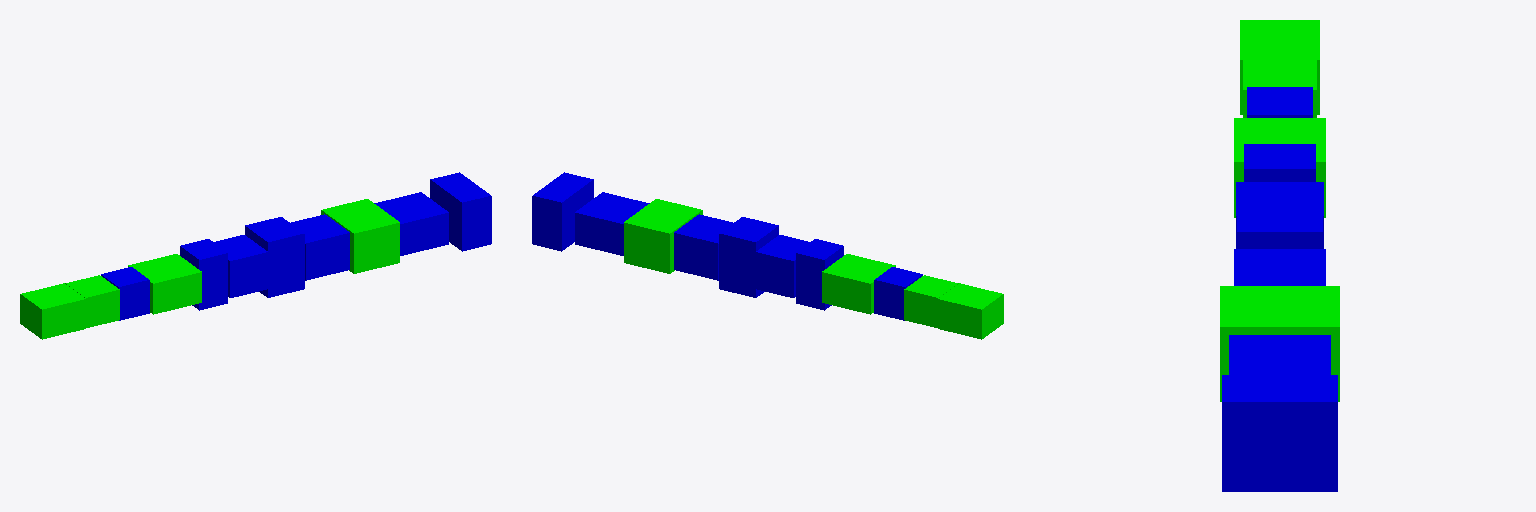
URDF robot description (robot):
<robot name = "robot">
    <link name="0">
        <inertial>
            <origin xyz="0 0 2" rpy="0 0 0"/>
            <mass value="0.25600514994307827" />
            <inertia ixx="100" ixy="0" ixz="0" iyy="100" iyz="0" izz="100" />
        </inertial>
        <visual>
            <origin xyz="0 0 2" rpy="0 0 0"/>
            <geometry>
                <box size="0.7760438546277959 0.6555405401074978 0.503225781691728" />
            </geometry>
            <material name="Sensor">
                <color rgba="0 1.0 0 1.0"/>
            </material>
        </visual>
        <collision>
            <origin xyz="0 0 2" rpy="0 0 0"/>
            <geometry>
                <box size="0.7760438546277959 0.6555405401074978 0.503225781691728" />
            </geometry>
        </collision>
    </link>
    <joint name="0_1" type="revolute">
       <parent link="0"/>
       <child  link="1"/>
       <origin rpy="0 0 0" xyz="0.38802192731389795 0 2" />
       <axis xyz="0 1 0"/>
       <limit effort="0.0" lower="-3.14159" upper="3.14159" velocity="0.0"/>
    </joint>
    <link name="1">
        <inertial>
            <origin xyz="0.30208870519881165 0 0" rpy="0 0 0"/>
            <mass value="0.18881340145510908" />
            <inertia ixx="100" ixy="0" ixz="0" iyy="100" iyz="0" izz="100" />
        </inertial>
        <visual>
            <origin xyz="0.30208870519881165 0 0" rpy="0 0 0"/>
            <geometry>
                <box size="0.6041774103976233 0.6076961456787582 0.5142589406377683" />
            </geometry>
            <material name="Sensor">
                <color rgba="0 1.0 0 1.0"/>
            </material>
        </visual>
        <collision>
            <origin xyz="0.30208870519881165 0 0" rpy="0 0 0"/>
            <geometry>
                <box size="0.6041774103976233 0.6076961456787582 0.5142589406377683" />
            </geometry>
        </collision>
    </link>
    <joint name="1_2" type="revolute">
       <parent link="1"/>
       <child  link="2"/>
       <origin rpy="0 0 0" xyz="0.6041774103976233 0 0" />
       <axis xyz="0 1 0"/>
       <limit effort="0.0" lower="-3.14159" upper="3.14159" velocity="0.0"/>
    </joint>
    <link name="2">
        <inertial>
            <origin xyz="0.27071075504738484 0 0" rpy="0 0 0"/>
            <mass value="0.1675827699821035" />
            <inertia ixx="100" ixy="0" ixz="0" iyy="100" iyz="0" izz="100" />
        </inertial>
        <visual>
            <origin xyz="0.27071075504738484 0 0" rpy="0 0 0"/>
            <geometry>
                <box size="0.5414215100947697 0.5450463087581592 0.5678850765193373" />
            </geometry>
            <material name="No Sensor">
                <color rgba="0 0 1.0 1.0"/>
            </material>
        </visual>
        <collision>
            <origin xyz="0.27071075504738484 0 0" rpy="0 0 0"/>
            <geometry>
                <box size="0.5414215100947697 0.5450463087581592 0.5678850765193373" />
            </geometry>
        </collision>
    </link>
    <joint name="2_3" type="revolute">
       <parent link="2"/>
       <child  link="3"/>
       <origin rpy="0 0 0" xyz="0.5414215100947697 0 0" />
       <axis xyz="0 1 0"/>
       <limit effort="0.0" lower="-3.14159" upper="3.14159" velocity="0.0"/>
    </joint>
    <link name="3">
        <inertial>
            <origin xyz="0.43034794291042033 0 0" rpy="0 0 0"/>
            <mass value="0.3410259487072515" />
            <inertia ixx="100" ixy="0" ixz="0" iyy="100" iyz="0" izz="100" />
        </inertial>
        <visual>
            <origin xyz="0.43034794291042033 0 0" rpy="0 0 0"/>
            <geometry>
                <box size="0.8606958858208407 0.7657718455136774 0.517414152815207" />
            </geometry>
            <material name="Sensor">
                <color rgba="0 1.0 0 1.0"/>
            </material>
        </visual>
        <collision>
            <origin xyz="0.43034794291042033 0 0" rpy="0 0 0"/>
            <geometry>
                <box size="0.8606958858208407 0.7657718455136774 0.517414152815207" />
            </geometry>
        </collision>
    </link>
    <joint name="3_4" type="revolute">
       <parent link="3"/>
       <child  link="4"/>
       <origin rpy="0 0 0" xyz="0.8606958858208407 0 0" />
       <axis xyz="0 1 0"/>
       <limit effort="0.0" lower="-3.14159" upper="3.14159" velocity="0.0"/>
    </joint>
    <link name="4">
        <inertial>
            <origin xyz="0.2532490481090515 0 0" rpy="0 0 0"/>
            <mass value="0.25527450353411507" />
            <inertia ixx="100" ixy="0" ixz="0" iyy="100" iyz="0" izz="100" />
        </inertial>
        <visual>
            <origin xyz="0.2532490481090515 0 0" rpy="0 0 0"/>
            <geometry>
                <box size="0.506498096218103 0.5936364827575529 0.8490026379730228" />
            </geometry>
            <material name="No Sensor">
                <color rgba="0 0 1.0 1.0"/>
            </material>
        </visual>
        <collision>
            <origin xyz="0.2532490481090515 0 0" rpy="0 0 0"/>
            <geometry>
                <box size="0.506498096218103 0.5936364827575529 0.8490026379730228" />
            </geometry>
        </collision>
    </link>
    <joint name="4_5" type="revolute">
       <parent link="4"/>
       <child  link="5"/>
       <origin rpy="0 0 0" xyz="0.506498096218103 0 0" />
       <axis xyz="0 1 0"/>
       <limit effort="0.0" lower="-3.14159" upper="3.14159" velocity="0.0"/>
    </joint>
    <link name="5">
        <inertial>
            <origin xyz="0.33299847793899773 0 0" rpy="0 0 0"/>
            <mass value="0.3023268668728876" />
            <inertia ixx="100" ixy="0" ixz="0" iyy="100" iyz="0" izz="100" />
        </inertial>
        <visual>
            <origin xyz="0.33299847793899773 0 0" rpy="0 0 0"/>
            <geometry>
                <box size="0.6659969558779955 0.726231643277783 0.6250709723716871" />
            </geometry>
            <material name="No Sensor">
                <color rgba="0 0 1.0 1.0"/>
            </material>
        </visual>
        <collision>
            <origin xyz="0.33299847793899773 0 0" rpy="0 0 0"/>
            <geometry>
                <box size="0.6659969558779955 0.726231643277783 0.6250709723716871" />
            </geometry>
        </collision>
    </link>
    <joint name="5_6" type="revolute">
       <parent link="5"/>
       <child  link="6"/>
       <origin rpy="0 0 0" xyz="0.6659969558779955 0 0" />
       <axis xyz="0 1 0"/>
       <limit effort="0.0" lower="-3.14159" upper="3.14159" velocity="0.0"/>
    </joint>
    <link name="6">
        <inertial>
            <origin xyz="0.32187433439545077 0 0" rpy="0 0 0"/>
            <mass value="0.42448372508960425" />
            <inertia ixx="100" ixy="0" ixz="0" iyy="100" iyz="0" izz="100" />
        </inertial>
        <visual>
            <origin xyz="0.32187433439545077 0 0" rpy="0 0 0"/>
            <geometry>
                <box size="0.6437486687909015 0.7037370686645233 0.936988524881387" />
            </geometry>
            <material name="No Sensor">
                <color rgba="0 0 1.0 1.0"/>
            </material>
        </visual>
        <collision>
            <origin xyz="0.32187433439545077 0 0" rpy="0 0 0"/>
            <geometry>
                <box size="0.6437486687909015 0.7037370686645233 0.936988524881387" />
            </geometry>
        </collision>
    </link>
    <joint name="6_7" type="revolute">
       <parent link="6"/>
       <child  link="7"/>
       <origin rpy="0 0 0" xyz="0.6437486687909015 0 0" />
       <axis xyz="0 1 0"/>
       <limit effort="0.0" lower="-3.14159" upper="3.14159" velocity="0.0"/>
    </joint>
    <link name="7">
        <inertial>
            <origin xyz="0.39271357619653385 0 0" rpy="0 0 0"/>
            <mass value="0.37707108437215714" />
            <inertia ixx="100" ixy="0" ixz="0" iyy="100" iyz="0" izz="100" />
        </inertial>
        <visual>
            <origin xyz="0.39271357619653385 0 0" rpy="0 0 0"/>
            <geometry>
                <box size="0.7854271523930677 0.7690038974279536 0.6242934496579995" />
            </geometry>
            <material name="No Sensor">
                <color rgba="0 0 1.0 1.0"/>
            </material>
        </visual>
        <collision>
            <origin xyz="0.39271357619653385 0 0" rpy="0 0 0"/>
            <geometry>
                <box size="0.7854271523930677 0.7690038974279536 0.6242934496579995" />
            </geometry>
        </collision>
    </link>
    <joint name="7_8" type="revolute">
       <parent link="7"/>
       <child  link="8"/>
       <origin rpy="0 0 0" xyz="0.7854271523930677 0 0" />
       <axis xyz="0 1 0"/>
       <limit effort="0.0" lower="-3.14159" upper="3.14159" velocity="0.0"/>
    </joint>
    <link name="8">
        <inertial>
            <origin xyz="0.4067991507240464 0 0" rpy="0 0 0"/>
            <mass value="0.5491231930015938" />
            <inertia ixx="100" ixy="0" ixz="0" iyy="100" iyz="0" izz="100" />
        </inertial>
        <visual>
            <origin xyz="0.4067991507240464 0 0" rpy="0 0 0"/>
            <geometry>
                <box size="0.8135983014480928 0.9946508530243027 0.678561311463254" />
            </geometry>
            <material name="Sensor">
                <color rgba="0 1.0 0 1.0"/>
            </material>
        </visual>
        <collision>
            <origin xyz="0.4067991507240464 0 0" rpy="0 0 0"/>
            <geometry>
                <box size="0.8135983014480928 0.9946508530243027 0.678561311463254" />
            </geometry>
        </collision>
    </link>
    <joint name="8_9" type="revolute">
       <parent link="8"/>
       <child  link="9"/>
       <origin rpy="0 0 0" xyz="0.8135983014480928 0 0" />
       <axis xyz="0 1 0"/>
       <limit effort="0.0" lower="-3.14159" upper="3.14159" velocity="0.0"/>
    </joint>
    <link name="9">
        <inertial>
            <origin xyz="0.45055527274175833 0 0" rpy="0 0 0"/>
            <mass value="0.41163563760607363" />
            <inertia ixx="100" ixy="0" ixz="0" iyy="100" iyz="0" izz="100" />
        </inertial>
        <visual>
            <origin xyz="0.45055527274175833 0 0" rpy="0 0 0"/>
            <geometry>
                <box size="0.9011105454835167 0.8509421808723567 0.5368276082568301" />
            </geometry>
            <material name="No Sensor">
                <color rgba="0 0 1.0 1.0"/>
            </material>
        </visual>
        <collision>
            <origin xyz="0.45055527274175833 0 0" rpy="0 0 0"/>
            <geometry>
                <box size="0.9011105454835167 0.8509421808723567 0.5368276082568301" />
            </geometry>
        </collision>
    </link>
    <joint name="9_10" type="revolute">
       <parent link="9"/>
       <child  link="10"/>
       <origin rpy="0 0 0" xyz="0.9011105454835167 0 0" />
       <axis xyz="0 1 0"/>
       <limit effort="0.0" lower="-3.14159" upper="3.14159" velocity="0.0"/>
    </joint>
    <link name="10">
        <inertial>
            <origin xyz="0.45055527274175833 0 0" rpy="0 0 0"/>
            <mass value="0.41163563760607363" />
            <inertia ixx="100" ixy="0" ixz="0" iyy="100" iyz="0" izz="100" />
        </inertial>
        <visual>
            <origin xyz="0.45055527274175833 0 0" rpy="0 0 0"/>
            <geometry>
                <box size="0.5154737434421117 0.9673971571689957 0.8205437947835201" />
            </geometry>
            <material name="No Sensor">
                <color rgba="0 0 1.0 1.0"/>
            </material>
        </visual>
        <collision>
            <origin xyz="0.45055527274175833 0 0" rpy="0 0 0"/>
            <geometry>
                <box size="0.5154737434421117 0.9673971571689957 0.8205437947835201" />
            </geometry>
        </collision>
    </link>
</robot>

--- What the picture shows (computed from the rendered views, not written in the file) ---
3 views of the same robot in one strip: view 1: azimuth 30°, elevation 25°; view 2: azimuth 150°, elevation 25°; view 3: azimuth 270°, elevation 25° (orthographic).
Model robot with 11 links and 10 joints (10 revolute), rooted at 0, posed all joints at 0.
Links seen in each view (by area): view 1: 8, 10, 6, 0, 9, 3, 7, 5, 4, 1, 2; view 2: 8, 10, 6, 0, 9, 3, 7, 5, 4, 1, 2; view 3: 10, 8, 6, 9, 0, 7, 3, 4, 1, 2, 5.
Link boxes in pixels (<box>): 8: <box>321,199,399,273</box>; 10: <box>430,172,491,251</box>; 6: <box>245,217,304,297</box>; 0: <box>20,283,85,339</box>; 9: <box>374,192,448,255</box>; 3: <box>128,254,201,314</box>; 7: <box>291,214,349,280</box>; 5: <box>214,235,267,297</box>; 4: <box>180,239,227,310</box>; 1: <box>65,275,119,327</box>; 2: <box>101,267,149,320</box>; 8: <box>624,199,702,273</box>; 10: <box>532,172,593,251</box>; 6: <box>719,217,778,297</box>; 0: <box>938,283,1003,339</box>; 9: <box>575,192,649,255</box>; 3: <box>822,254,895,314</box>; 7: <box>674,214,732,280</box>; 5: <box>756,235,809,297</box>; 4: <box>796,239,843,310</box>; 1: <box>904,275,958,327</box>; 2: <box>874,267,922,320</box>; 10: <box>1222,375,1337,491</box>; 8: <box>1220,286,1339,401</box>; 6: <box>1237,199,1322,248</box>; 9: <box>1229,335,1330,374</box>; 0: <box>1240,20,1319,114</box>; 7: <box>1234,249,1325,285</box>; 3: <box>1234,118,1325,217</box>; 4: <box>1244,144,1315,181</box>; 1: <box>1243,59,1316,117</box>; 2: <box>1247,87,1312,117</box>; 5: <box>1236,182,1323,248</box>.
Bounding box of the posed robot: 7.81 × 0.9947 × 0.937 m (x, y, z).
Geometry: primitives only (box / cylinder / sphere), no mesh files.